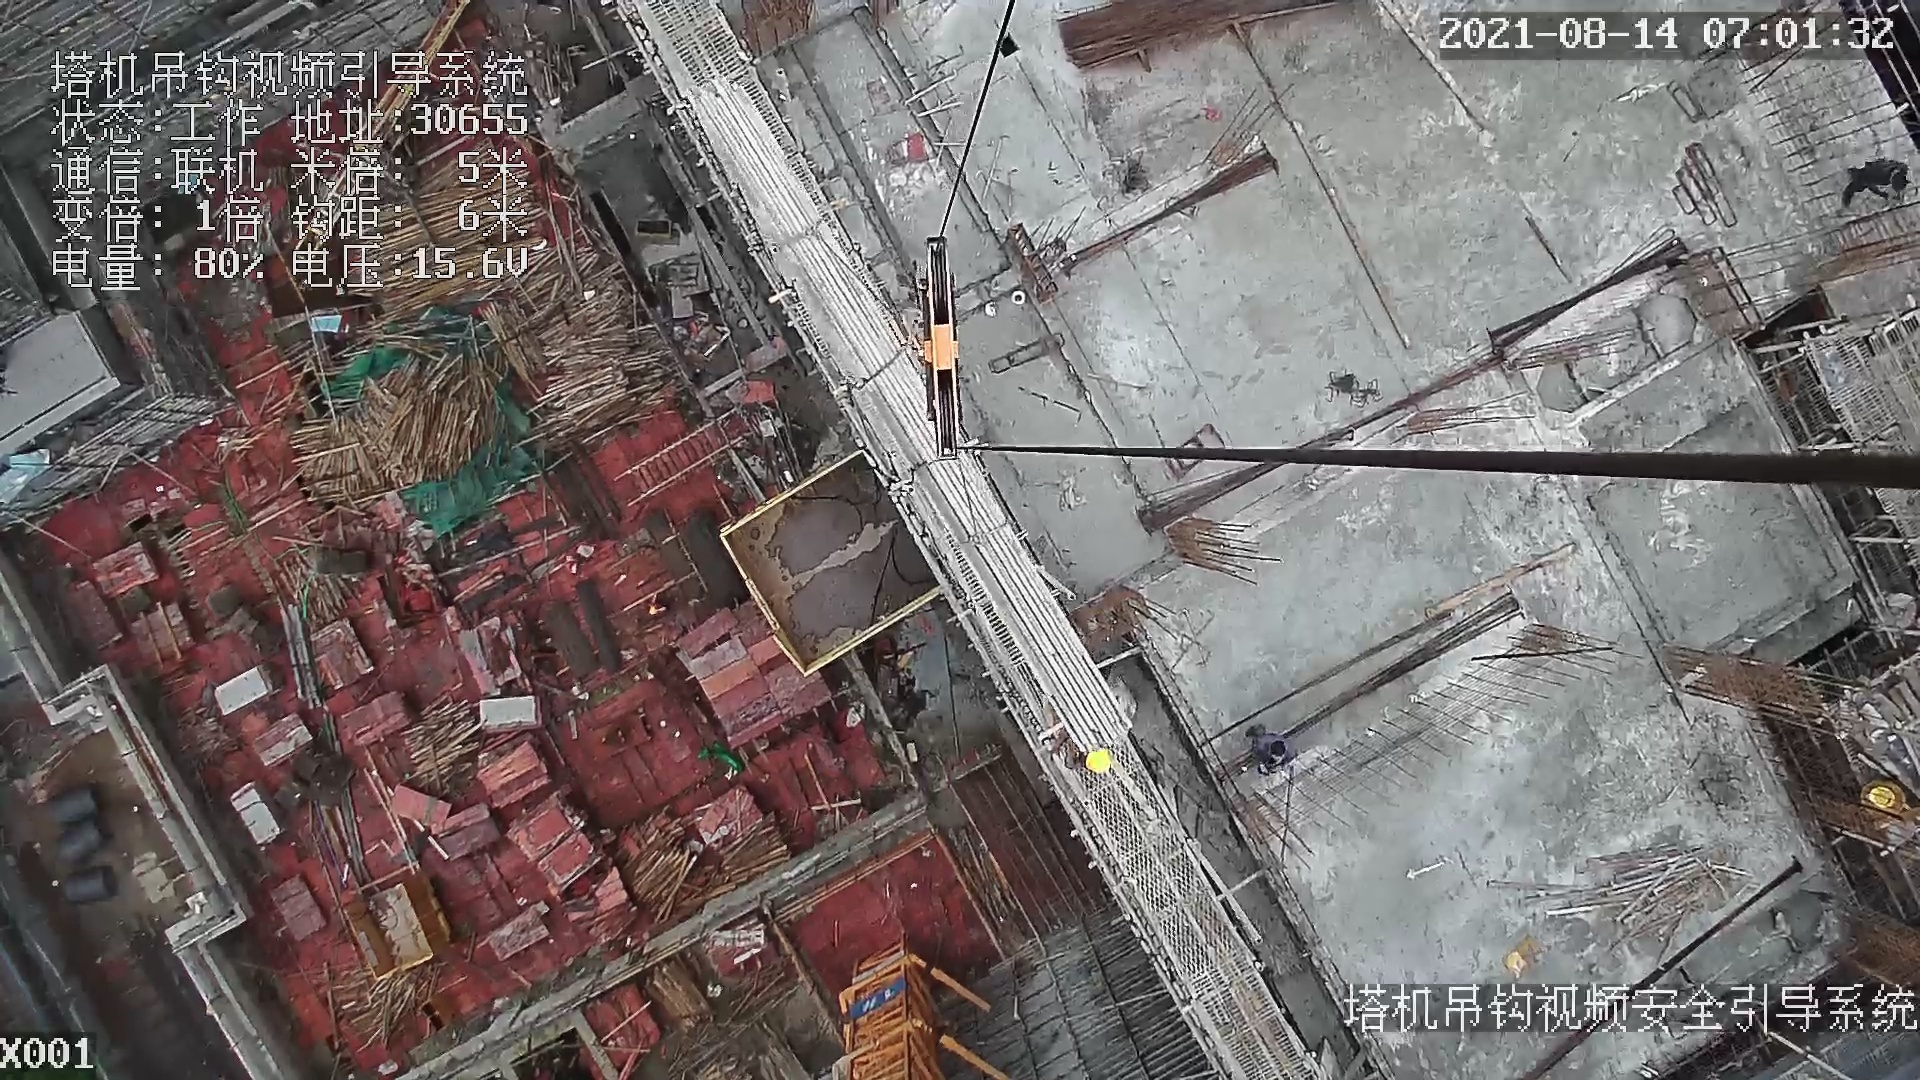helmet: (1084, 746, 1113, 779)
hook: (913, 232, 967, 471)
person: (1828, 150, 1916, 216), (1255, 727, 1304, 772), (1059, 730, 1112, 772)
